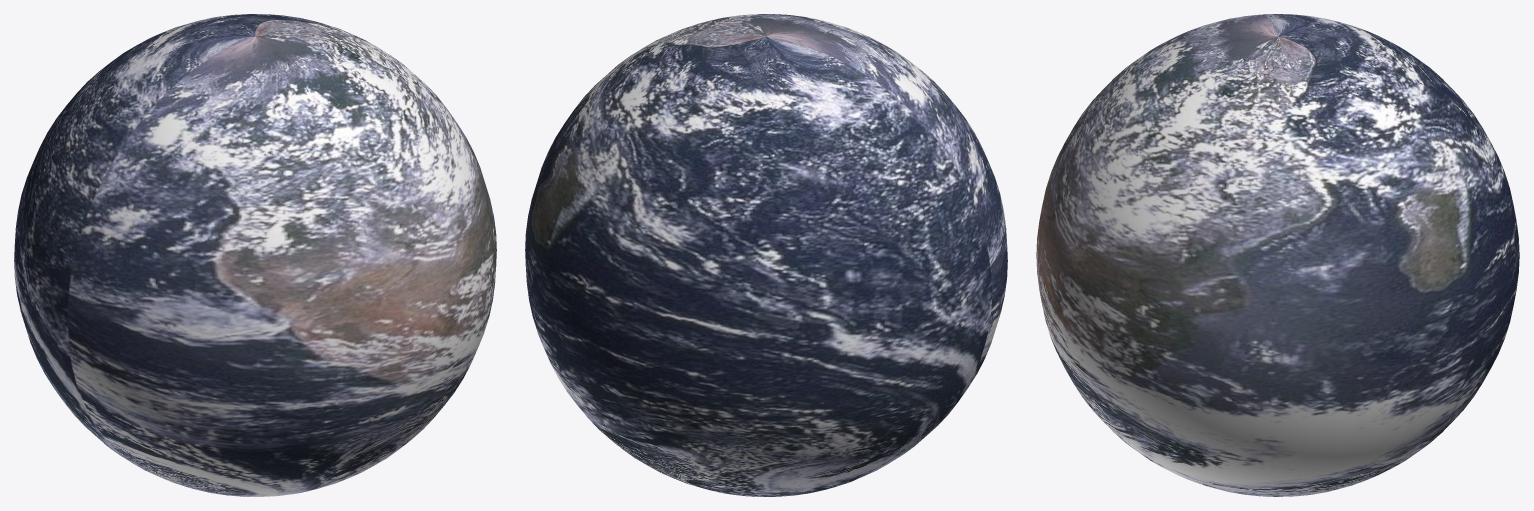
Rendered from earth.glb.
3 views of the same model, side by side, from view 1: azimuth 30°, elevation 25°; view 2: azimuth 150°, elevation 25°; view 3: azimuth 270°, elevation 25° (orthographic).
Visible parts, largest first — view 1: sun_GEO 2; view 2: sun_GEO 2; view 3: sun_GEO 2.
Boxes of the visible parts, x1,y1,x2,y2 form: sun_GEO 2: (14, 14, 496, 496); sun_GEO 2: (525, 14, 1007, 496); sun_GEO 2: (1036, 14, 1519, 496).
Size of the model in its own units: 0.297 by 0.297 by 0.297.
Materials: 1 (1 with a texture image).
